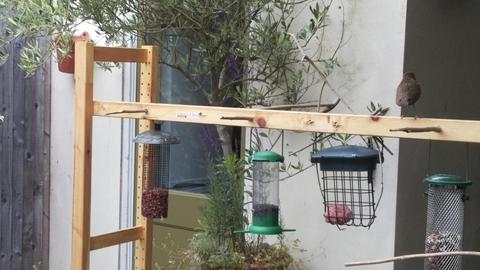robin: (395, 71, 421, 121)
